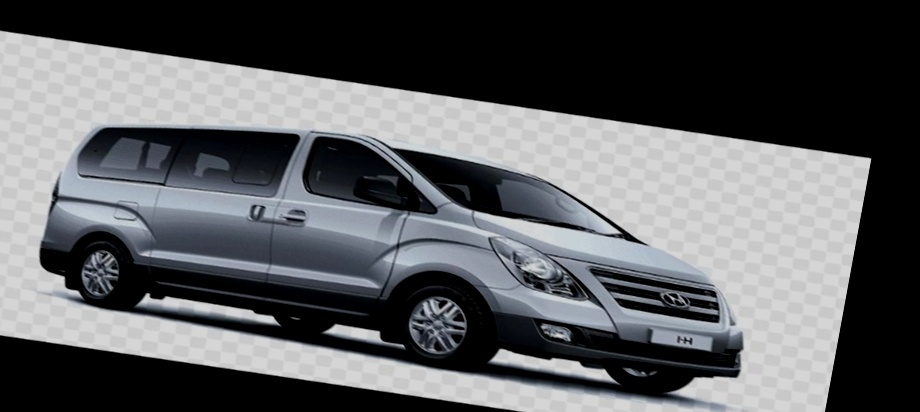van: (14, 57, 786, 412)
